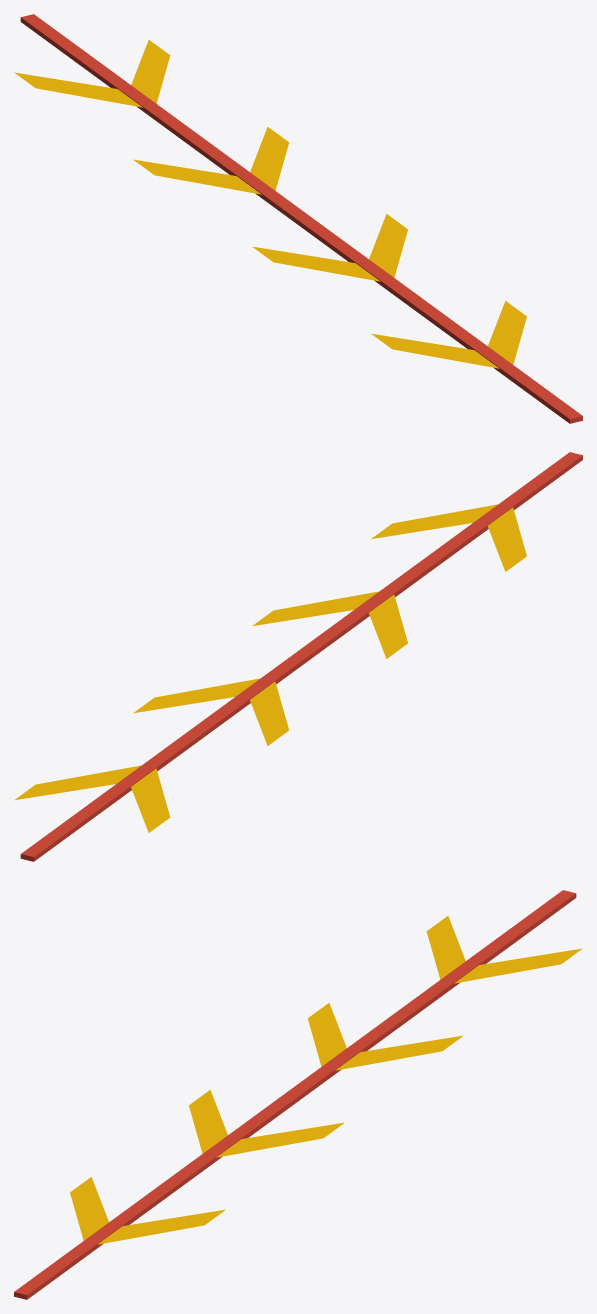
File: aim_strip.glb
3 renders of one model, top to bottom at view 1: azimuth 30°, elevation 25°; view 2: azimuth 150°, elevation 25°; view 3: azimuth 330°, elevation 25°, orthographic.
Parts seen in each view (by area): view 1: RF_aim_strip; view 2: RF_aim_strip; view 3: RF_aim_strip.
Part boxes in pixels (bbox=[...]): RF_aim_strip: bbox=[14, 14, 582, 423]; RF_aim_strip: bbox=[14, 452, 582, 861]; RF_aim_strip: bbox=[14, 890, 582, 1299].
Size of the model in its own units: 0.36 by 0.012 by 2.54.
